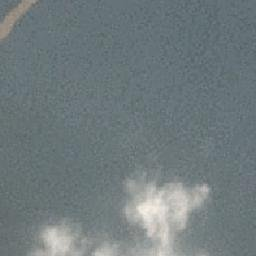cloud: (116, 172, 220, 256), (28, 216, 115, 256)
debris: (2, 1, 35, 40)
